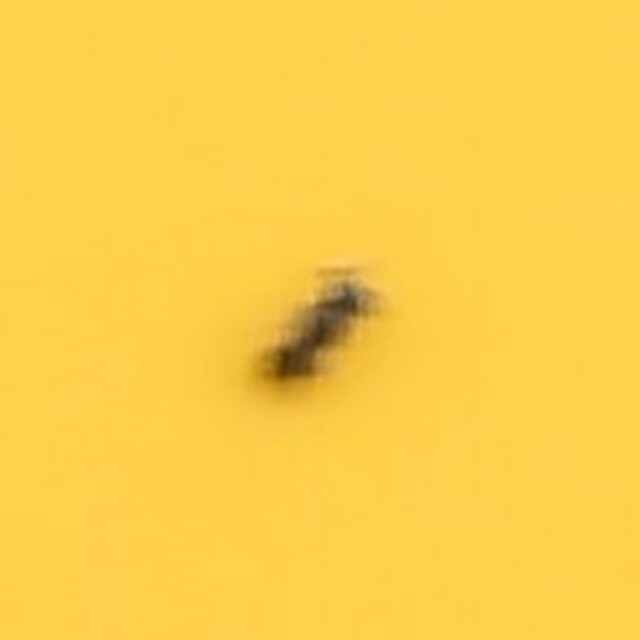Hymenoptera: (257, 255, 383, 385)
